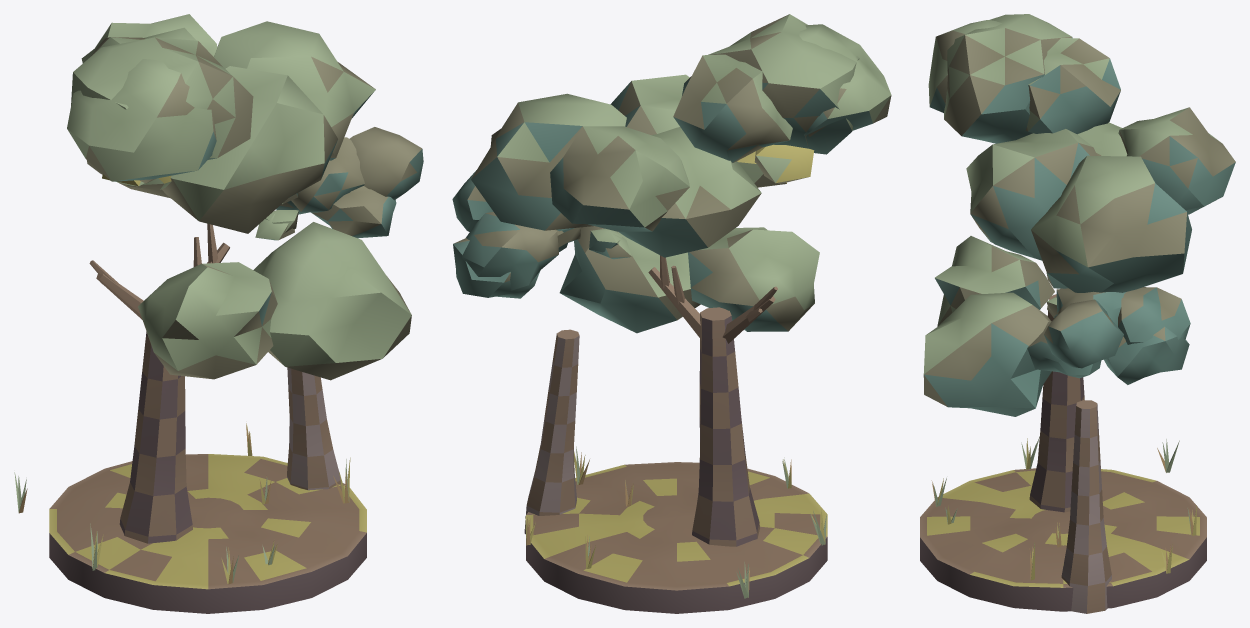
Rendered from pastoral_trees_v1.glb.
The picture shows the model from 3 angles, left to right: view 1: azimuth 30°, elevation 25°; view 2: azimuth 150°, elevation 25°; view 3: azimuth 270°, elevation 25°; orthographic projection. The views are drawn at different scales.
Visible parts, largest first — view 1: Body; view 2: Body; view 3: Body.
Boxes of the visible parts, x1,y1,x2,y2 form: Body: (14, 14, 423, 613); Body: (452, 14, 891, 613); Body: (920, 14, 1235, 613).
Bounding box in the file's own units: 0.5254 × 0.6919 × 0.406.
